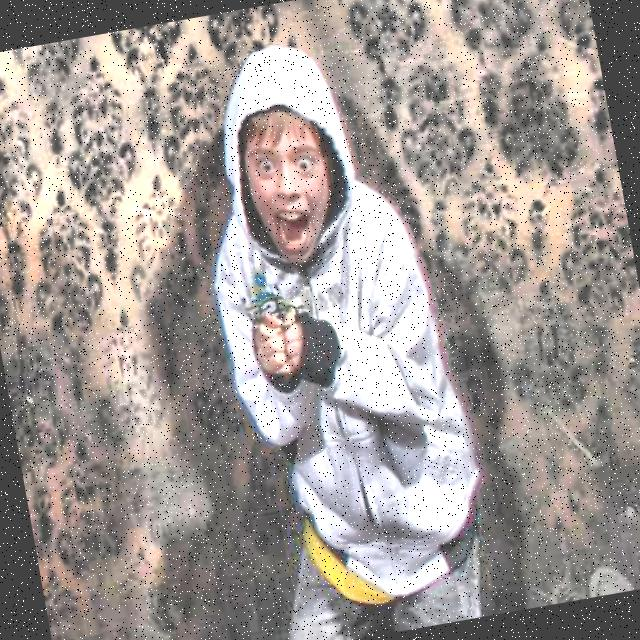fear: (201, 56, 375, 295)
